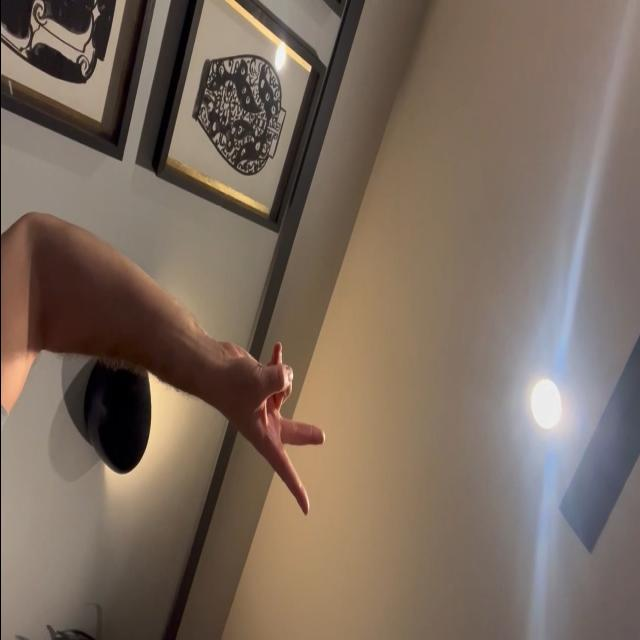Scissors: (215, 341, 325, 521)
